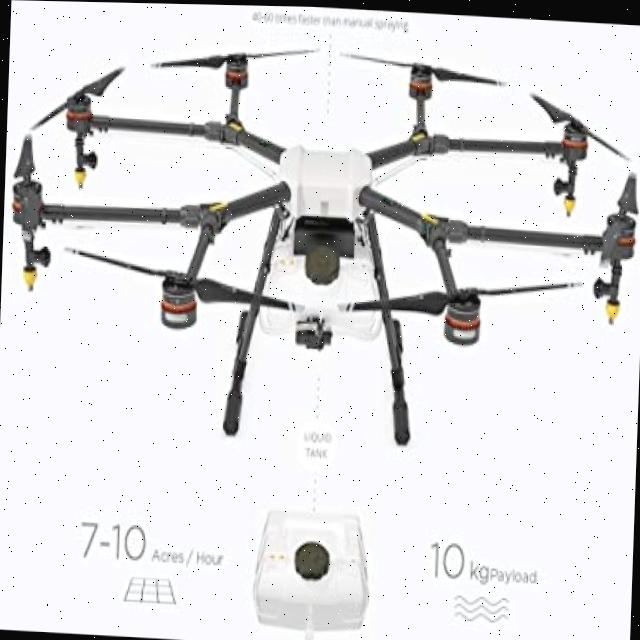drone: (3, 13, 640, 421)
